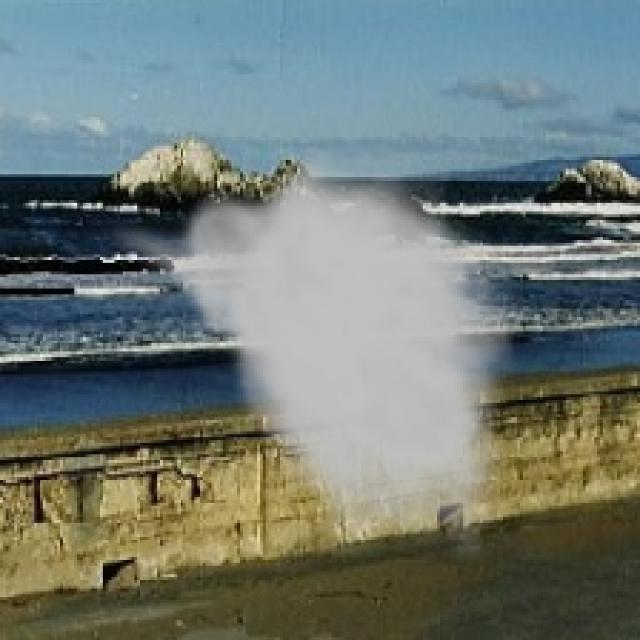smoke: (100, 140, 523, 563)
